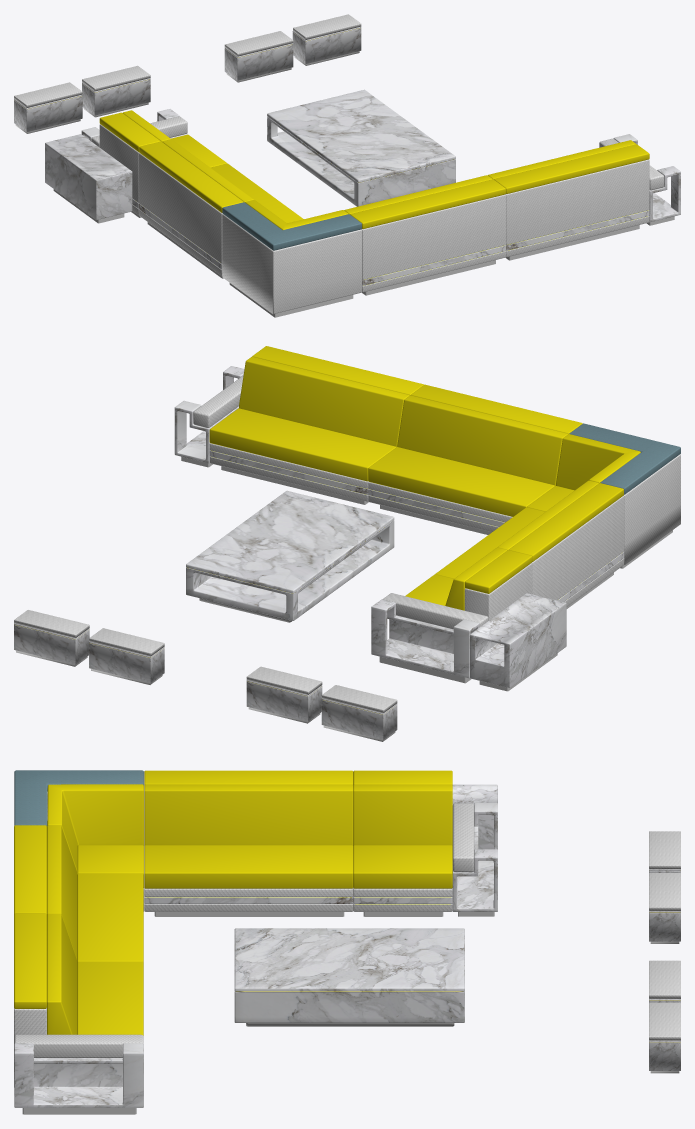
File: White_Marble Sofa SET.fbx
The picture shows the model from 3 angles, top to bottom: view 1: azimuth 30°, elevation 25°; view 2: azimuth 150°, elevation 25°; view 3: azimuth 270°, elevation 25°; orthographic projection. The views are drawn at different scales.
Visible parts, largest first — view 1: Marble_Table, Sofa_Long.002, Sofa_Long.001, Sofa_Station, Storage box, Sofa_Long, Sofa_Station_Headrest, Sofa_Long_Headrest.001, Sofa_Long_Headrest.002, Sofa_Long_Headrest, MiniSofa, MiniSofa.001 (+19 smaller); view 2: Marble_Table, Sofa_Long_Backrest.001, Sofa_Long_Backrest.002, Sofa_Long_Cushion.002, Sofa_Long_Cushion.001, Storage box, Sofa_Long, Sofa_Armrest.001, Sofa_Station, Sofa_Long.002, Sofa_Station_Backrest, Sofa_Station_Headrest (+23 smaller); view 3: Marble_Table, Sofa_Long_Backrest, Sofa_Long_Cushion, Sofa_Armrest, Sofa_Middle_Backrest, Sofa_Long_Cushion.001, Sofa_Station_Backrest, Sofa_Long, Sofa_Long_Cushion.002, Sofa_Middle_Cushion, Sofa_Station_Headrest, Sofa_Long_Backrest.002 (+21 smaller).
Part boxes in pixels (box(x1,y1,x2,y2)): Marble_Table: box(267, 89, 455, 206); Sofa_Long.002: box(505, 159, 649, 257); Sofa_Long.001: box(361, 194, 505, 292); Sofa_Station: box(222, 214, 361, 314); Storage box: box(45, 134, 132, 219); Sofa_Long: box(139, 153, 222, 275); Sofa_Station_Headrest: box(222, 202, 361, 250); Sofa_Long_Headrest.001: box(350, 179, 505, 228); Sofa_Long_Headrest.002: box(494, 144, 649, 193); Sofa_Long_Headrest: box(139, 141, 243, 212); MiniSofa: box(224, 43, 293, 82); MiniSofa.001: box(292, 26, 361, 65); Marble_Table: box(186, 490, 394, 620); Sofa_Long_Backrest.001: box(397, 395, 568, 485); Sofa_Long_Backrest.002: box(239, 356, 409, 446); Sofa_Long_Cushion.002: box(209, 408, 396, 481); Sofa_Long_Cushion.001: box(368, 447, 554, 516); Storage box: box(470, 593, 566, 687); Sofa_Long: box(532, 496, 624, 606); Sofa_Armrest.001: box(371, 599, 479, 678); Sofa_Station: box(623, 454, 680, 564); Sofa_Long.002: box(209, 443, 368, 501); Sofa_Station_Backrest: box(556, 434, 640, 490); Sofa_Station_Headrest: box(569, 423, 680, 494); Marble_Table: box(234, 928, 464, 1022); Sofa_Long_Backrest: box(144, 784, 353, 845); Sofa_Long_Cushion: box(144, 845, 353, 888); Sofa_Armrest: box(14, 1043, 143, 1107); Sofa_Middle_Backrest: box(353, 784, 452, 845); Sofa_Long_Cushion.001: box(77, 873, 143, 962); Sofa_Station_Backrest: box(47, 784, 143, 874); Sofa_Long: box(144, 888, 353, 911); Sofa_Long_Cushion.002: box(77, 961, 143, 1035); Sofa_Middle_Cushion: box(353, 845, 452, 888); Sofa_Station_Headrest: box(14, 770, 143, 826); Sofa_Long_Backrest.002: box(47, 913, 76, 1034).
Size of the model in its own units: 588 by 96.27 by 607.
